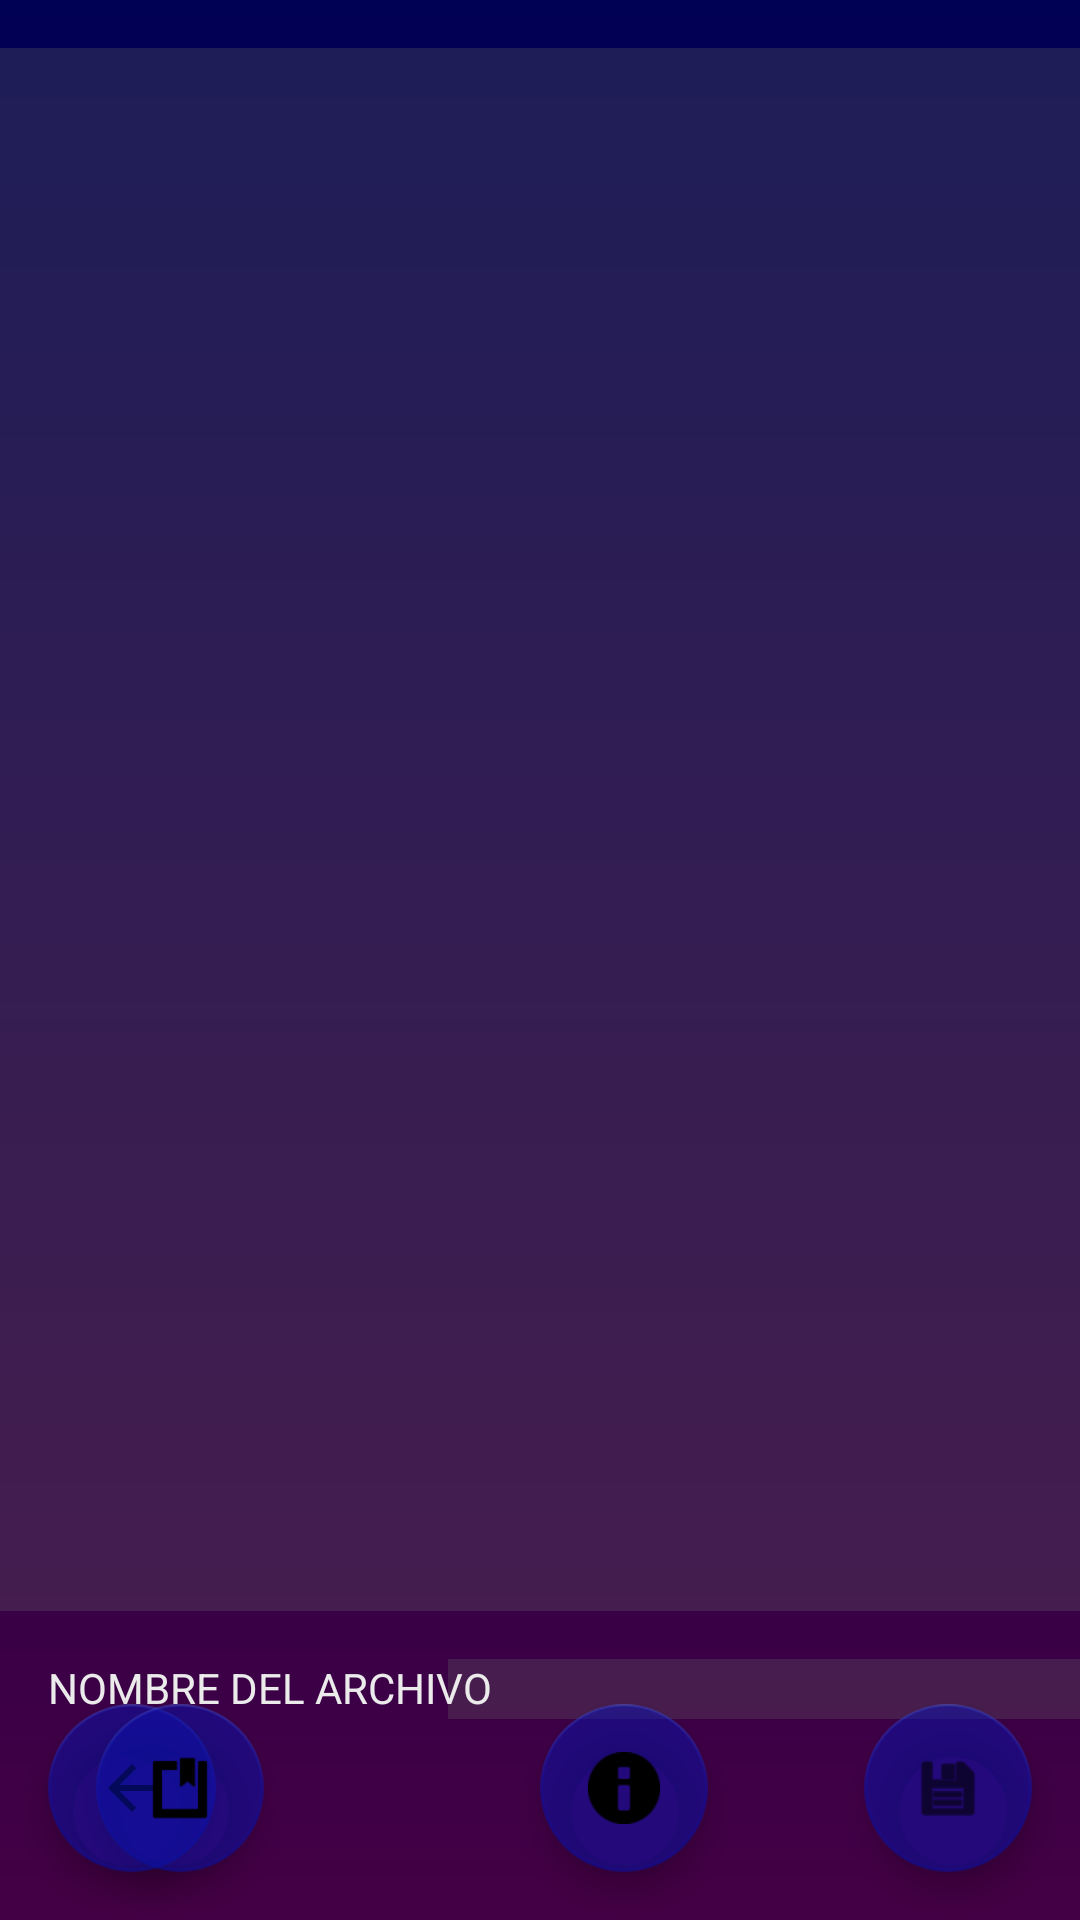

Locate icon controls on the screen. Image size 1080×1920, boxes as region(x1, y1, x2, y2).
get: region(96, 1704, 264, 1872)
info: region(540, 1704, 708, 1872)
save: region(864, 1704, 1032, 1872)
